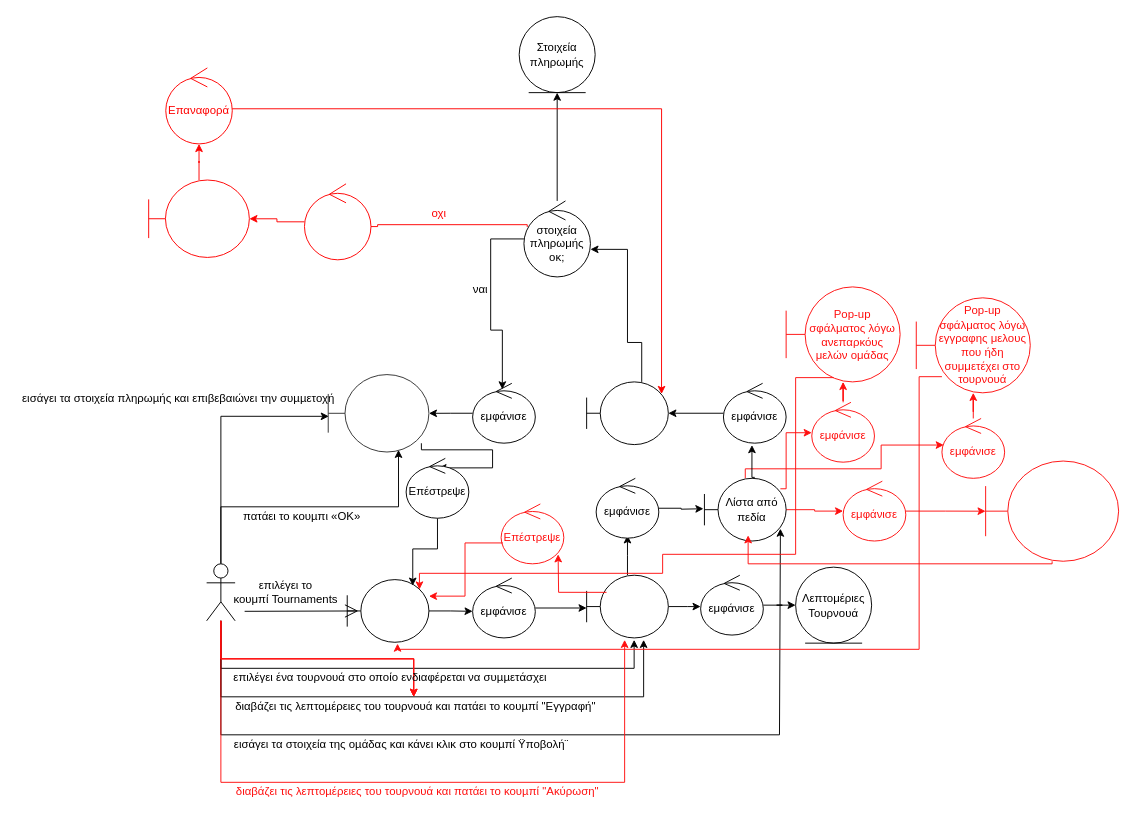
Some shapes in this 1135 by 825 pixel diagram are drawn without their labels. Each missing label, with the centre of its shape:
"Pop-up επιτυχίας και id συμμετοχής" belongs at (378,413).
"Pop-up μήνυμα αποτυχίας" belongs at (198,218).
"Pop-up σφάλματος λόγω εισαγωγής μη διαθέσιμου ονόματος ομάδας" belongs at (1052,510).
"User" belongs at (220,592).
"Διεπαφή Τουρνουά" belongs at (387,610).
"εμφανισε" belongs at (337,221).
"Λίστα επερχόµενων τουρνουά" belongs at (627,606).
"Φόρμα Στοιχείων Πληρωμής" belongs at (627,413).
